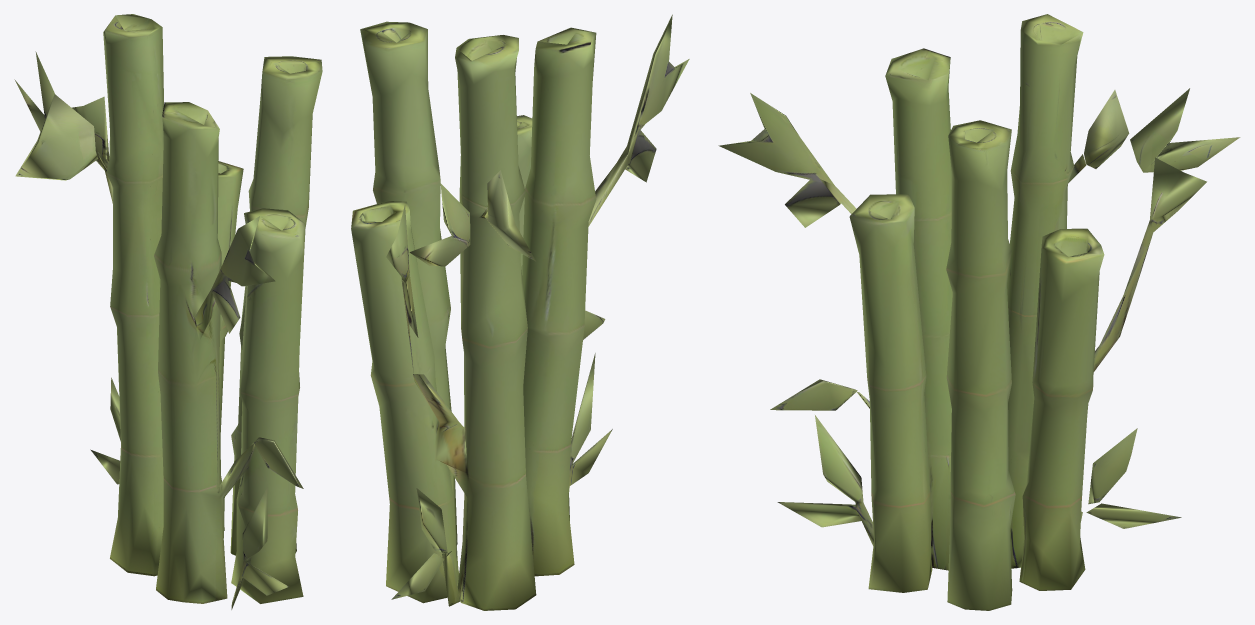
File: SM_Env_Bamboo_01.glb
3 views of the same model, side by side, from view 1: azimuth 30°, elevation 25°; view 2: azimuth 150°, elevation 25°; view 3: azimuth 270°, elevation 25° (orthographic). The views are drawn at different scales.
Visible parts, largest first — view 1: tripo_node_6fddc04f-3404-497d-b2de-3dcc733d2f37; view 2: tripo_node_6fddc04f-3404-497d-b2de-3dcc733d2f37; view 3: tripo_node_6fddc04f-3404-497d-b2de-3dcc733d2f37.
Part boxes in pixels (x1=…): tripo_node_6fddc04f-3404-497d-b2de-3dcc733d2f37: x1=14, y1=14, x2=322, y2=609; tripo_node_6fddc04f-3404-497d-b2de-3dcc733d2f37: x1=351, y1=14, x2=689, y2=610; tripo_node_6fddc04f-3404-497d-b2de-3dcc733d2f37: x1=718, y1=14, x2=1240, y2=610.
Bounding box in the file's own units: 0.4679 × 1 × 0.9018.
Materials: 1 (1 with a texture image).
